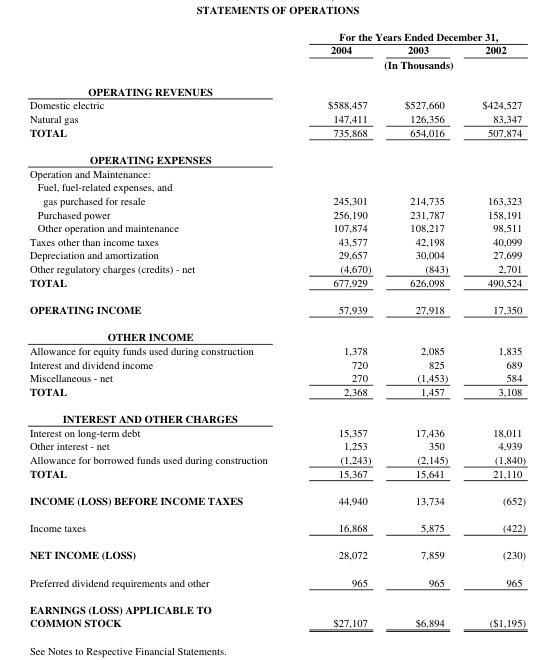table: (28, 29, 525, 629)
table column: (28, 29, 296, 629), (296, 29, 387, 629), (387, 29, 464, 629), (464, 29, 525, 629)
table column header: (28, 29, 525, 77)
table projected row header: (28, 145, 525, 166), (28, 322, 525, 343), (28, 404, 525, 425), (28, 77, 525, 97), (28, 595, 525, 615), (28, 166, 525, 179), (28, 179, 525, 192)
table row: (28, 540, 525, 568), (28, 295, 525, 322), (28, 486, 525, 513), (28, 513, 525, 540), (28, 568, 525, 595), (28, 56, 525, 77), (28, 124, 525, 145), (28, 145, 525, 166), (28, 274, 525, 295), (28, 322, 525, 343), (28, 383, 525, 404), (28, 404, 525, 425), (28, 465, 525, 486), (28, 77, 525, 97), (28, 595, 525, 615), (28, 29, 525, 43), (28, 97, 525, 111), (28, 192, 525, 206), (28, 206, 525, 220), (28, 233, 525, 247), (28, 247, 525, 261), (28, 356, 525, 370), (28, 438, 525, 452), (28, 615, 525, 629), (28, 43, 525, 56), (28, 111, 525, 124), (28, 166, 525, 179), (28, 179, 525, 192), (28, 220, 525, 233), (28, 261, 525, 274), (28, 343, 525, 356), (28, 370, 525, 383), (28, 425, 525, 438), (28, 452, 525, 465)
table spanning cell: (296, 56, 525, 77), (296, 29, 525, 43)
